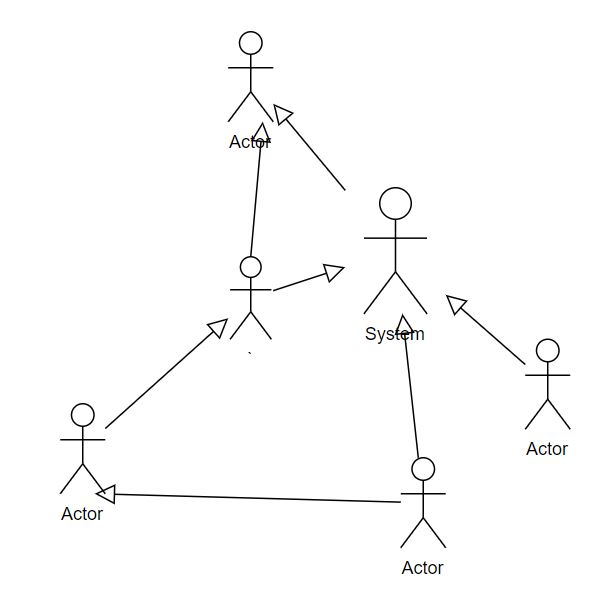actor: (364, 186, 428, 315), (227, 31, 274, 123), (525, 339, 571, 431), (400, 456, 445, 549), (59, 403, 103, 493), (230, 254, 272, 340)
generalization: (104, 318, 229, 430), (96, 484, 402, 505), (273, 105, 346, 190), (444, 294, 523, 364), (395, 315, 427, 456), (250, 123, 269, 257), (272, 263, 346, 291)
text: (361, 319, 425, 347), (51, 499, 107, 524), (398, 554, 449, 580), (518, 440, 570, 460), (226, 132, 274, 151)
